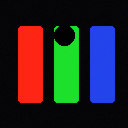2 circle: (54, 25, 74, 45)
